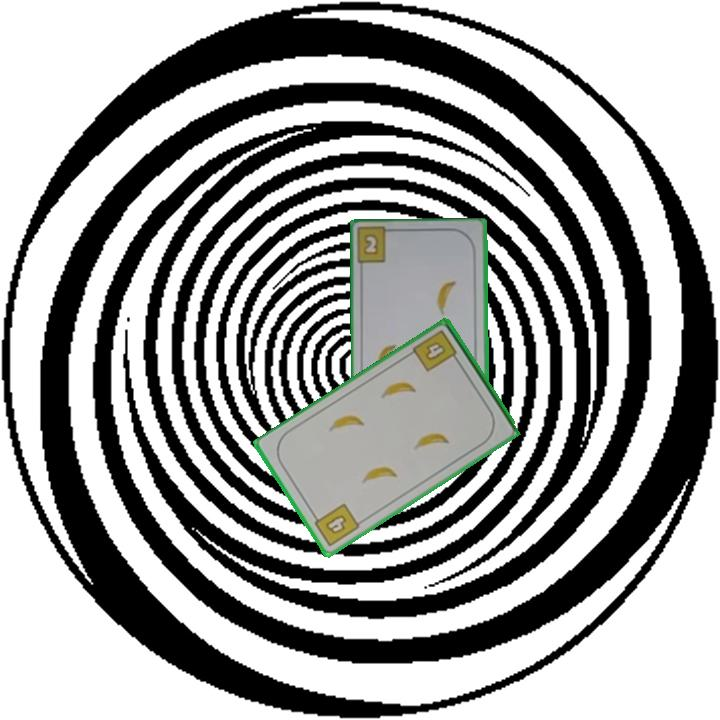2b: (361, 233, 381, 258)
4b: (308, 500, 363, 550), (409, 326, 463, 375)
